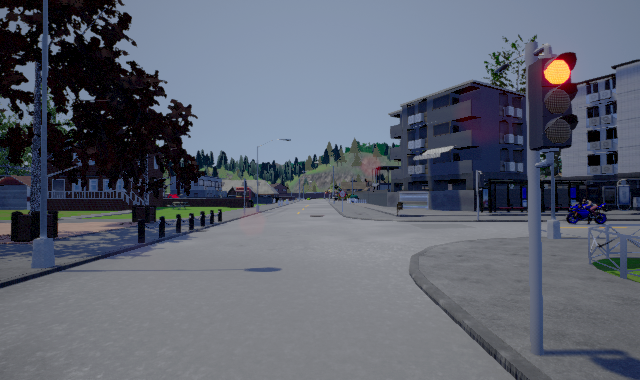motobike: (566, 202, 608, 224)
traffic_light: (528, 43, 579, 168)
